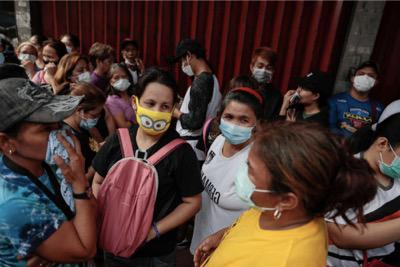mask_weared_incorrect: (293, 87, 312, 106), (123, 46, 137, 65)
with_mask: (232, 157, 273, 209), (19, 119, 66, 163), (135, 96, 171, 137), (219, 110, 253, 145), (377, 148, 399, 179), (79, 108, 102, 133), (352, 69, 375, 93), (251, 61, 272, 84), (72, 65, 92, 86), (112, 72, 130, 92), (42, 49, 58, 67), (20, 49, 35, 65), (180, 61, 192, 77)
